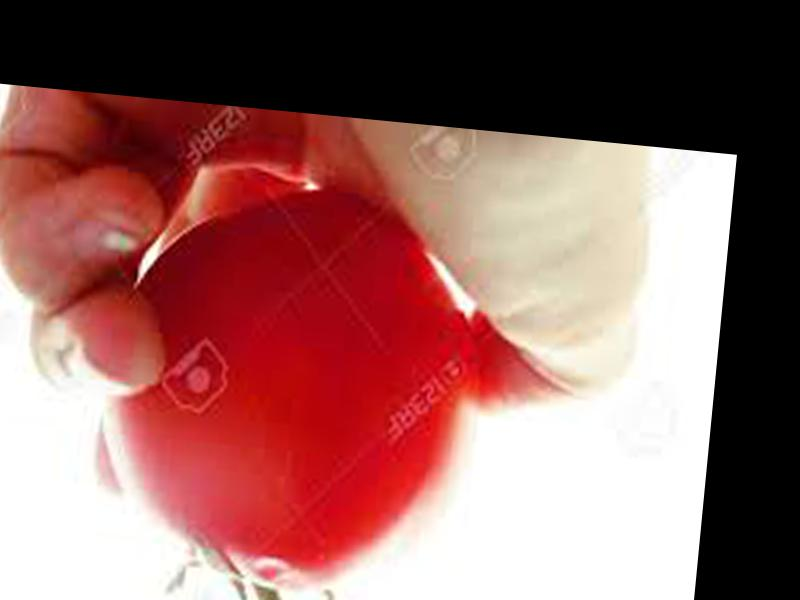Tomato: (85, 177, 491, 600)
